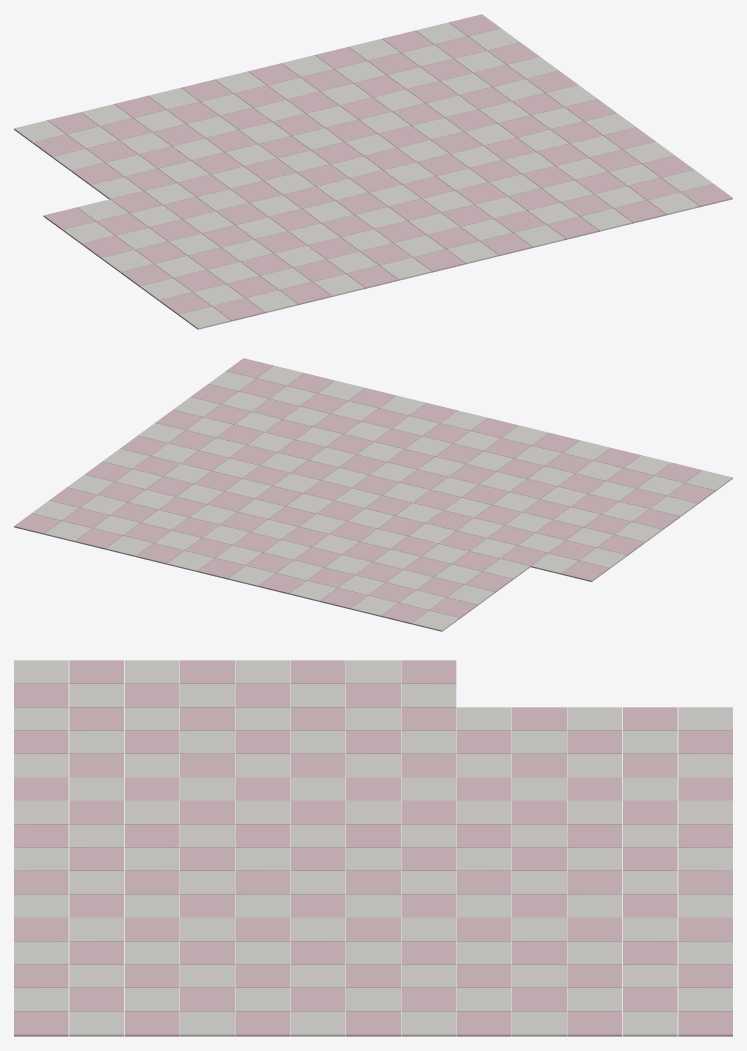
Rendered from home_floor_tiles_s4__pink.glb.
3 renders of one model, top to bottom at view 1: azimuth 30°, elevation 25°; view 2: azimuth 150°, elevation 25°; view 3: azimuth 270°, elevation 25°, orthographic. The views are drawn at different scales.
Size of the model in its own units: 15.99 by 0.04 by 12.99.
